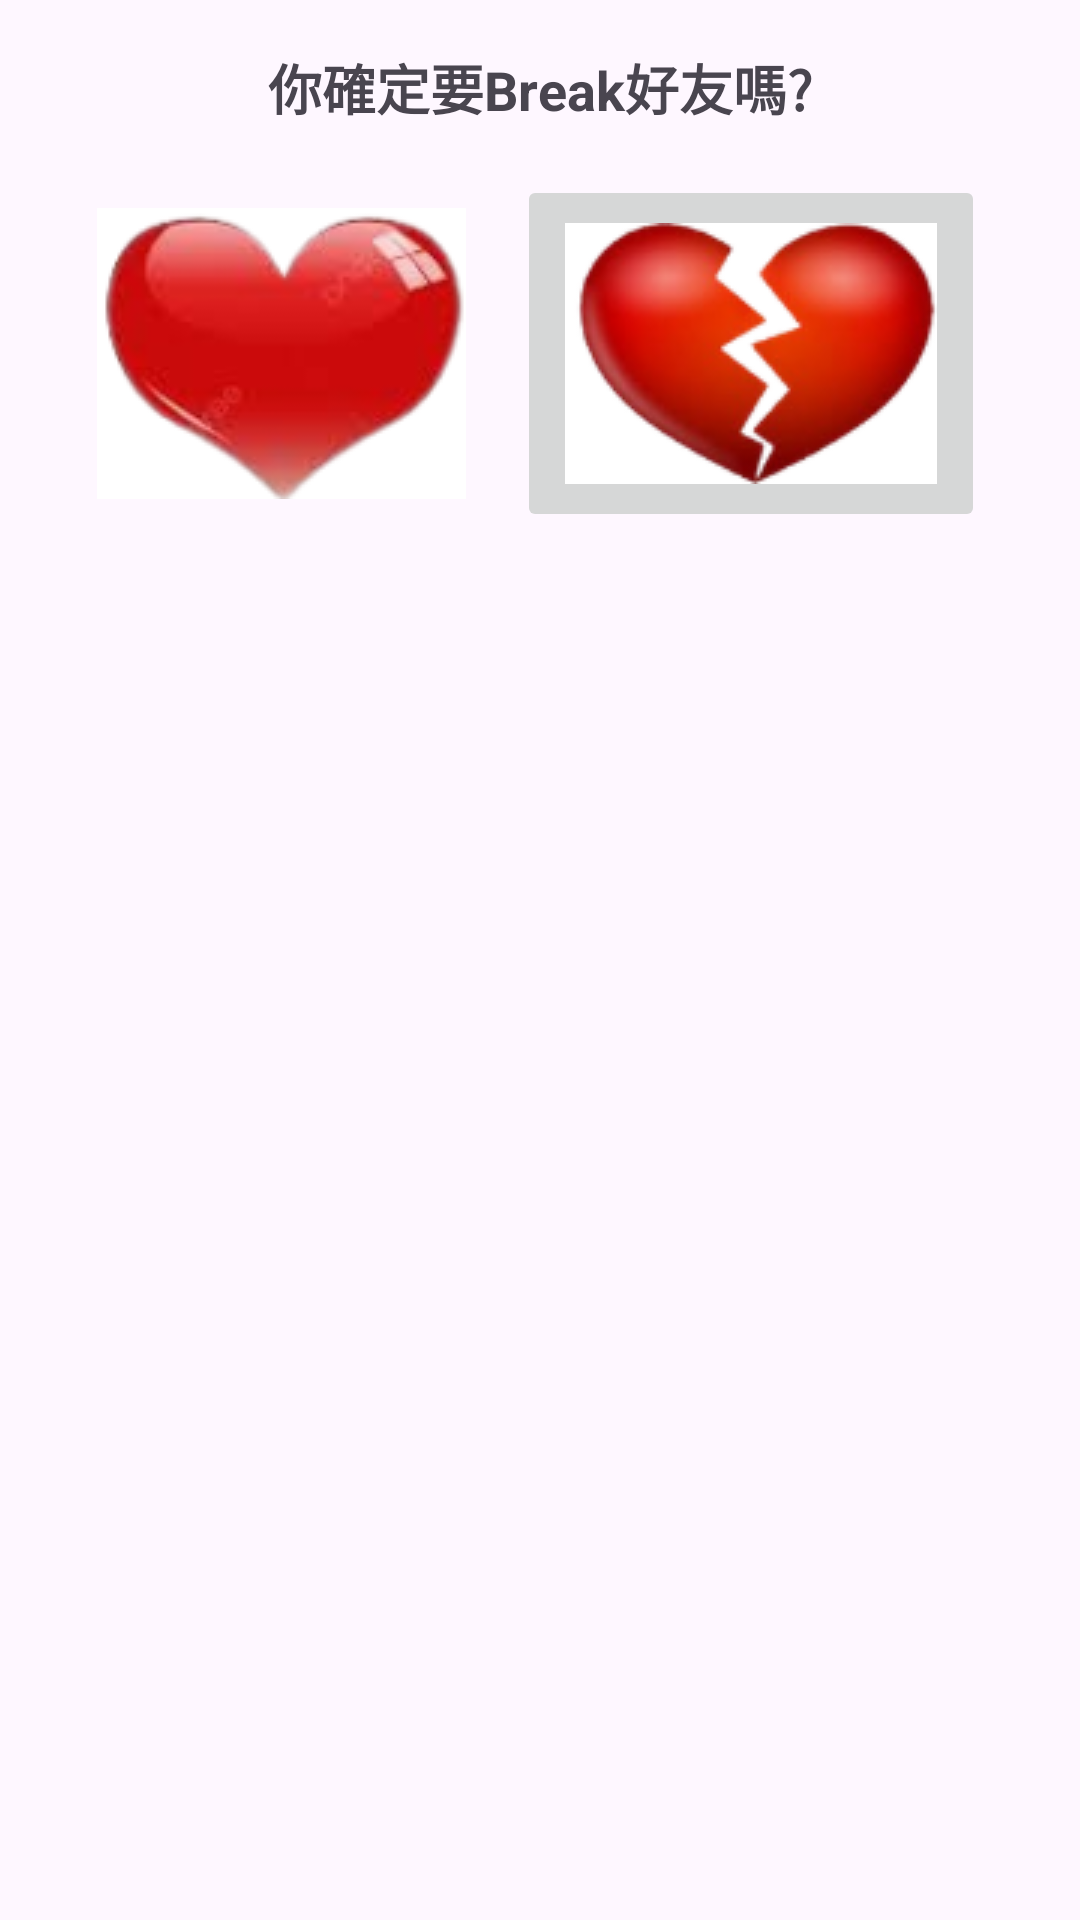

Icons on this 1080x1920 Android screen, each with the point to tap as [x,y]:
friend: [284,357]
